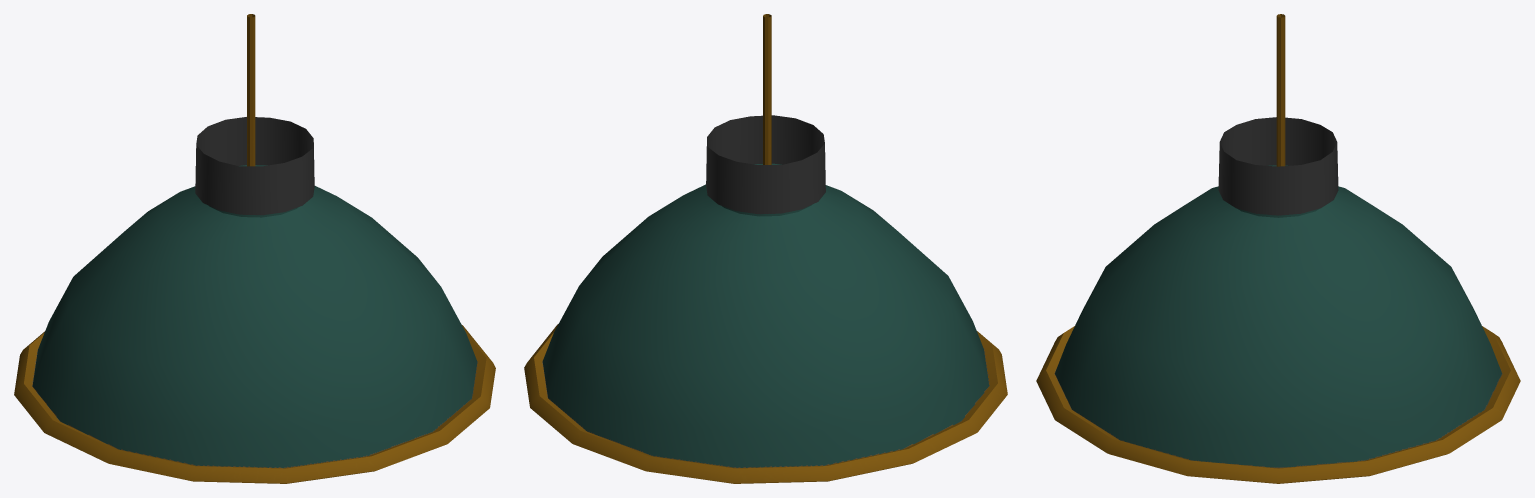
File: Lampara1LowPoly.fbx
3 renders of one model, left to right at view 1: azimuth 30°, elevation 25°; view 2: azimuth 150°, elevation 25°; view 3: azimuth 270°, elevation 25°, orthographic.
Visible parts, largest first — view 1: lampara; view 2: lampara; view 3: lampara.
Boxes of the visible parts, x1,y1,x2,y2 form: lampara: [14, 14, 495, 483]; lampara: [524, 14, 1007, 483]; lampara: [1036, 14, 1520, 483].
Bounding box in the file's own units: 86.72 × 74.22 × 86.72.
